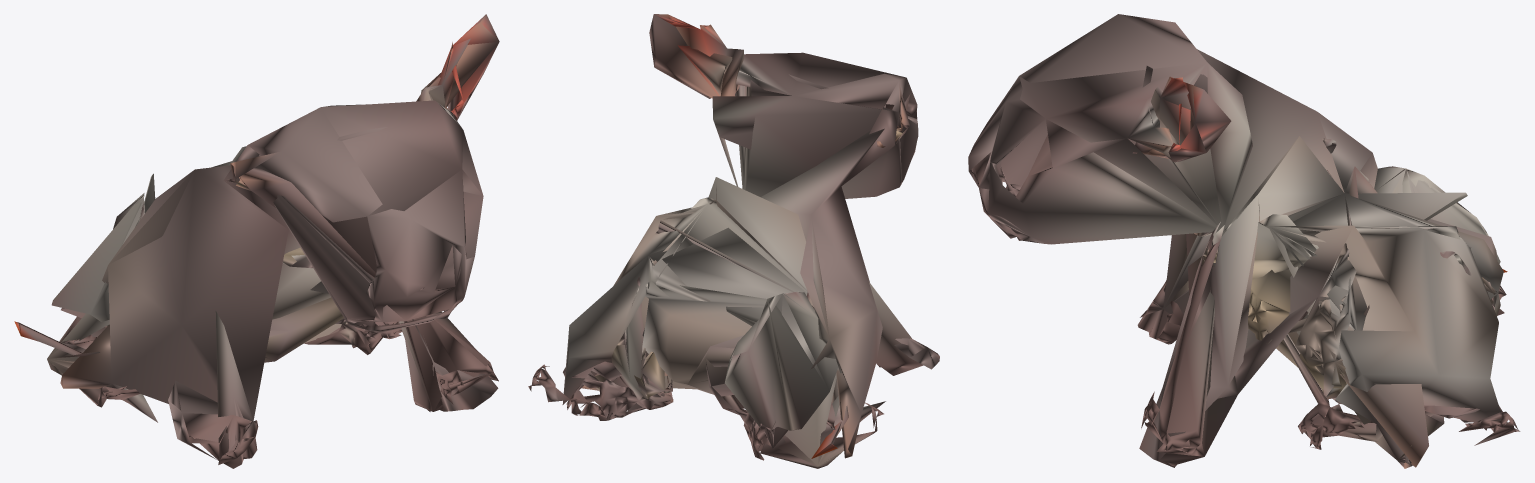
Rendered from gen3d-axolotl-lod0.glb.
3 views of the same model, side by side, from view 1: azimuth 30°, elevation 25°; view 2: azimuth 150°, elevation 25°; view 3: azimuth 270°, elevation 25° (orthographic). The views are drawn at different scales.
Visible parts, largest first — view 1: part_0; view 2: part_0; view 3: part_0.
Boxes of the visible parts, x1,y1,x2,y2 form: part_0: (14, 14, 499, 468); part_0: (528, 14, 939, 468); part_0: (968, 14, 1520, 468).
Bounding box in the file's own units: 1 × 1 × 1.3.
